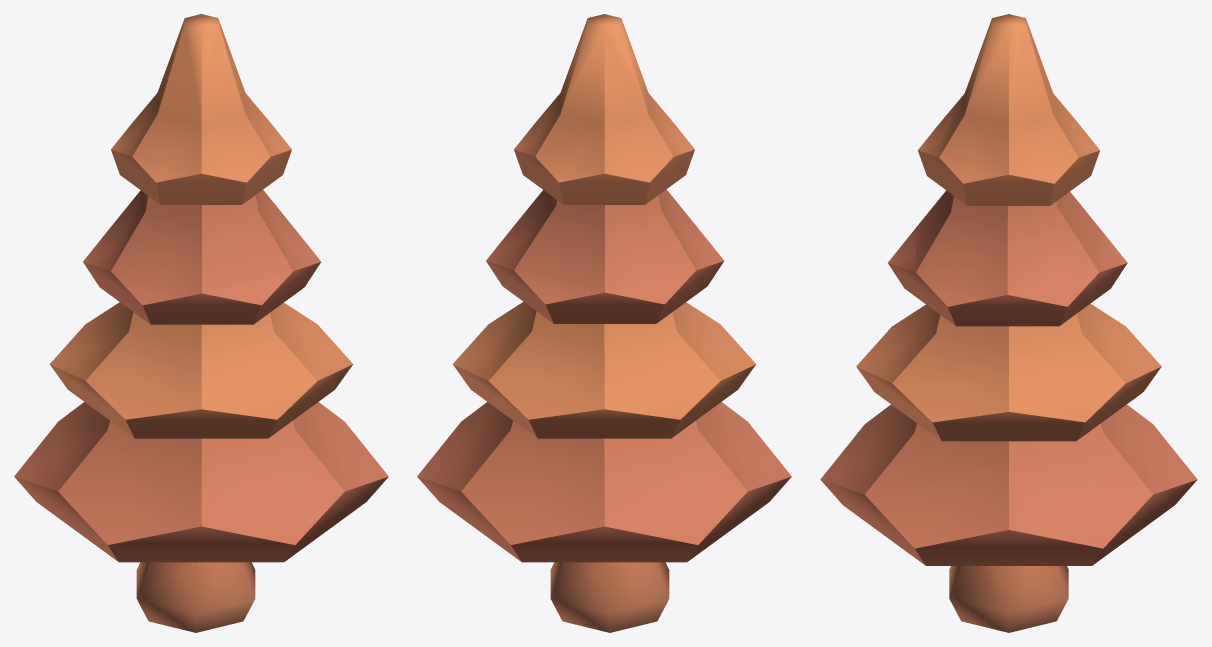
The model's file is pine-fall_lev1.glb.
The picture shows the model from 3 angles, left to right: view 1: azimuth 30°, elevation 25°; view 2: azimuth 150°, elevation 25°; view 3: azimuth 270°, elevation 25°; orthographic projection.
Visible parts, largest first — view 1: pine-fall_lev1; view 2: pine-fall_lev1; view 3: pine-fall_lev1.
Part boxes in pixels (x1,y1,x2,y2): pine-fall_lev1: (14, 14, 388, 632); pine-fall_lev1: (417, 14, 791, 632); pine-fall_lev1: (820, 14, 1197, 632).
Bounding box in the file's own units: 12.96 × 25.33 × 14.68.
1 material, 1 textured.
